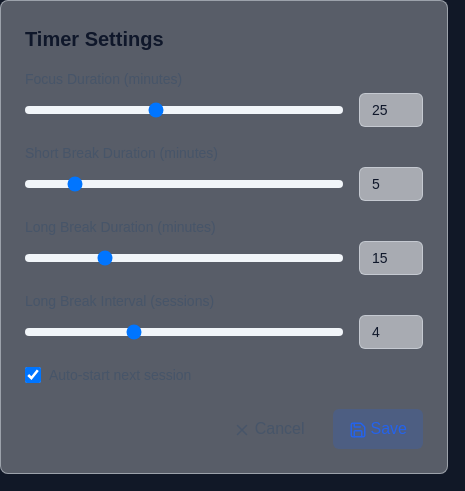
PomodoroSettings › focus duration › should handle empty input by defaulting to 1
Clear the number field showing "25" below "Focus Duration (minutes)" at (391,110), box [359,93,423,127]
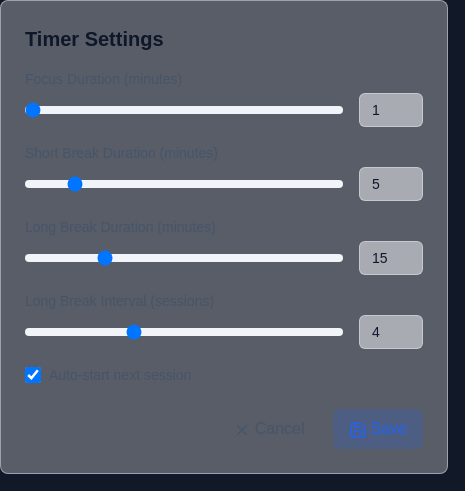
Now the number field showing "25" below "Focus Duration (minutes)" holds "1", box [359,93,423,127]
